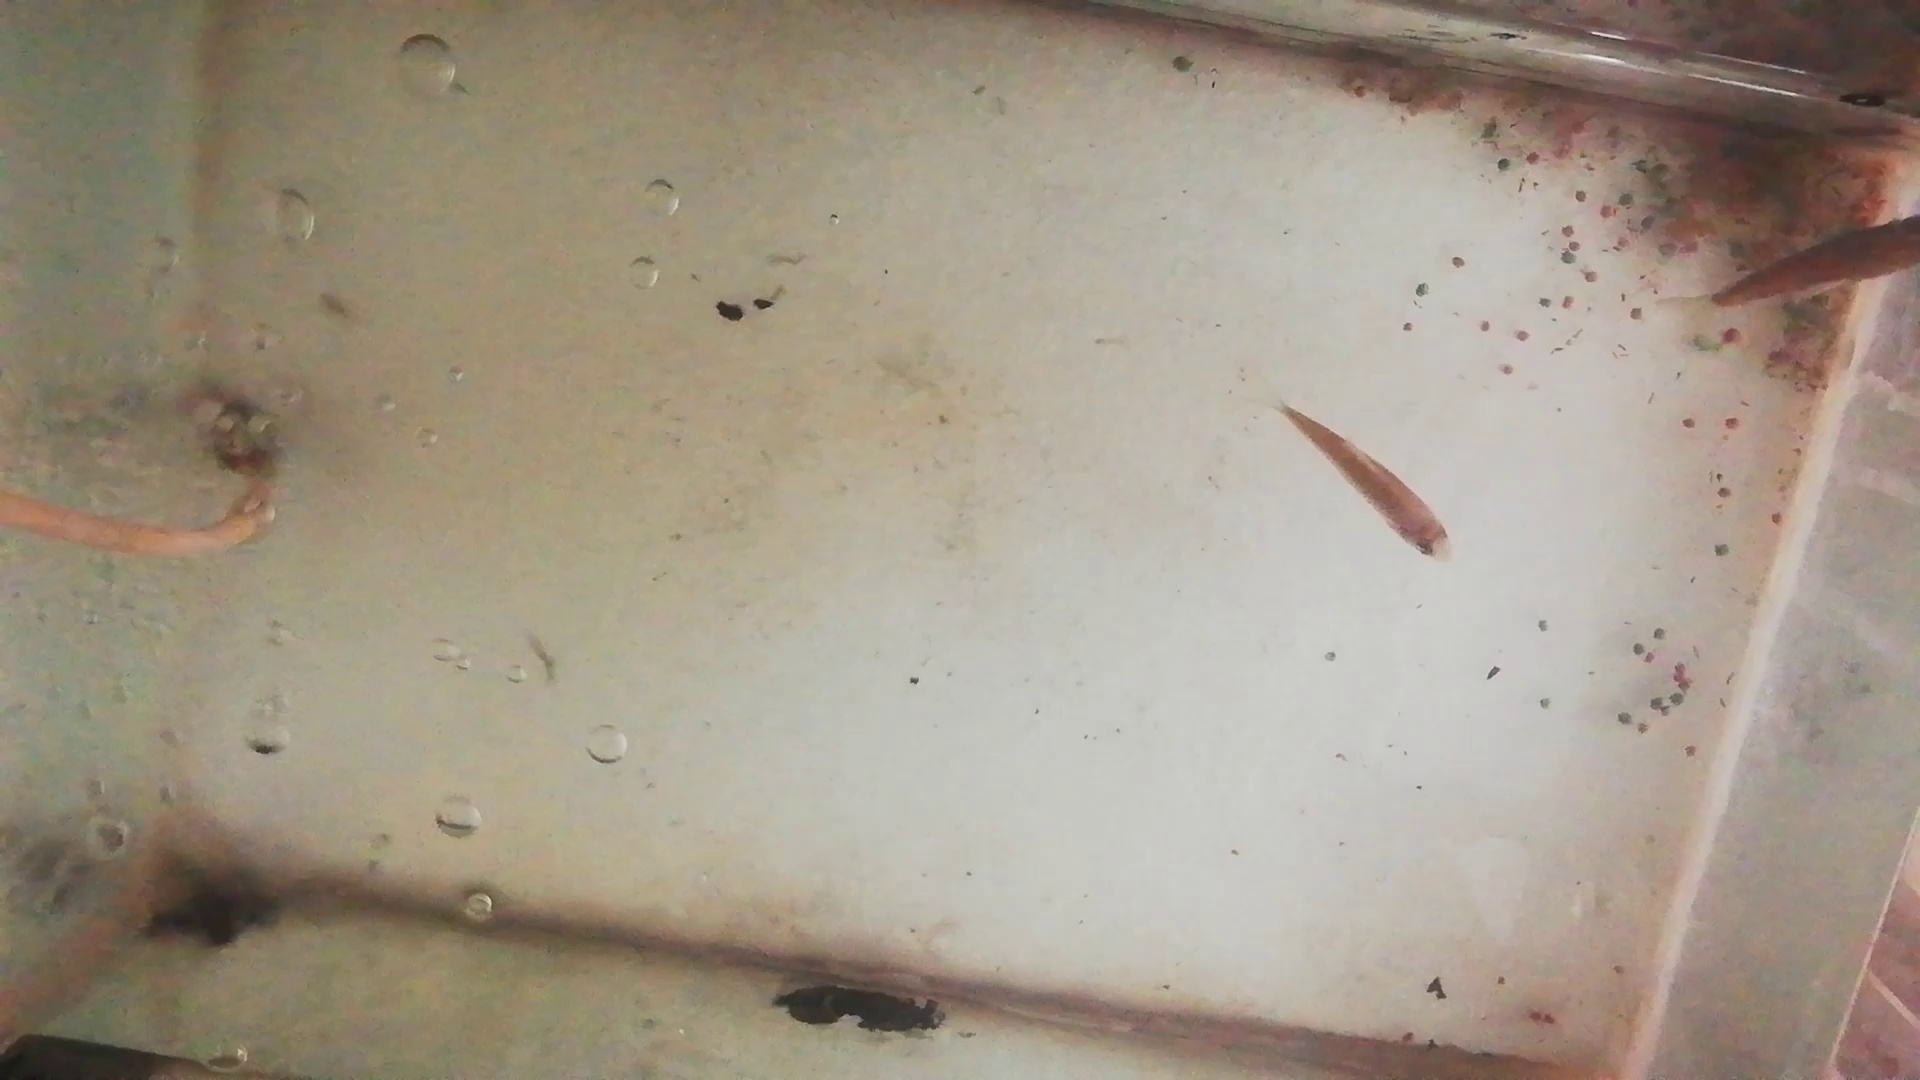fish: (1283, 409, 1456, 563), (1705, 214, 1919, 307)
